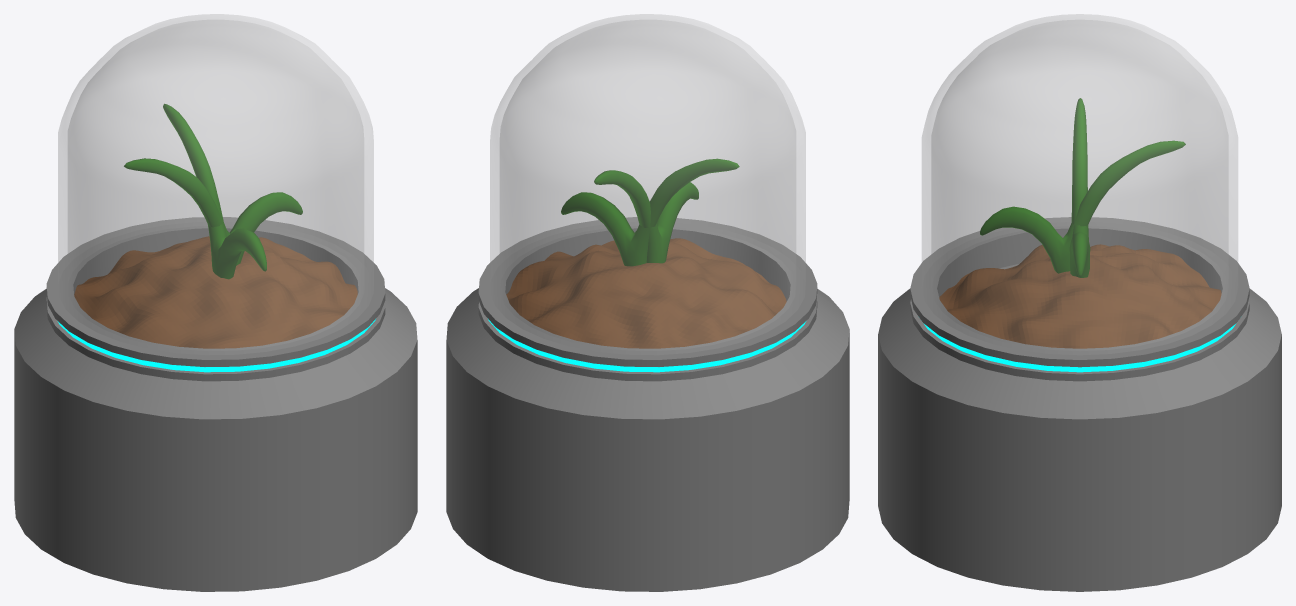
Rendered from LabPlant2.fbx.
The picture shows the model from 3 angles, left to right: view 1: azimuth 30°, elevation 25°; view 2: azimuth 150°, elevation 25°; view 3: azimuth 270°, elevation 25°; orthographic projection.
Parts seen in each view (by area): view 1: Cylinder, Circle, Cube.001, Cube, Cube.002; view 2: Cylinder, Circle, Cube.001, Cube.002, Cube; view 3: Cylinder, Circle, Cube.001, Cube, Cube.002.
Part boxes in pixels (x1=…): Cylinder: x1=14, y1=217, x2=417, y2=591; Circle: x1=58, y1=14, x2=373, y2=354; Cube.001: x1=74, y1=236, x2=357, y2=348; Cube: x1=163, y1=104, x2=266, y2=279; Cube.002: x1=124, y1=158, x2=302, y2=265; Cylinder: x1=446, y1=217, x2=849, y2=591; Circle: x1=490, y1=14, x2=805, y2=354; Cube.001: x1=506, y1=238, x2=786, y2=348; Cube.002: x1=561, y1=158, x2=739, y2=266; Cube: x1=594, y1=170, x2=698, y2=263; Cylinder: x1=878, y1=217, x2=1281, y2=591; Circle: x1=922, y1=14, x2=1237, y2=354; Cube.001: x1=939, y1=244, x2=1221, y2=348; Cube: x1=980, y1=140, x2=1185, y2=273; Cube.002: x1=1069, y1=98, x2=1090, y2=277.
Size of the model in its own units: 224 by 288 by 224.
